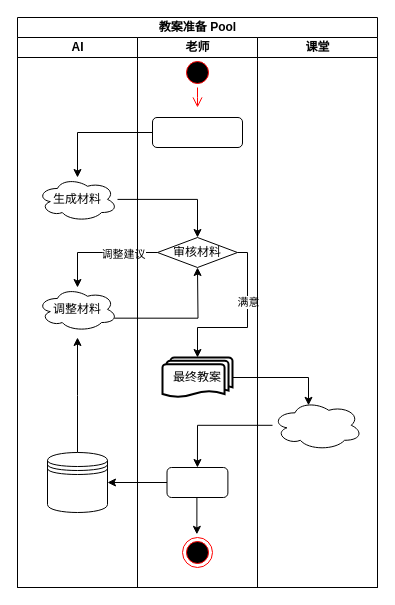
Image size: 395x605. Some labels were removed from this diagram. Here are the shapes that lost their labels. From the top down, the centre of each, then its label:
At [197,132]: "设定课堂目标".
At [317,424]: "课堂活动".
At [77,482]: "经验积累".
At [197,482]: "课堂反思".
